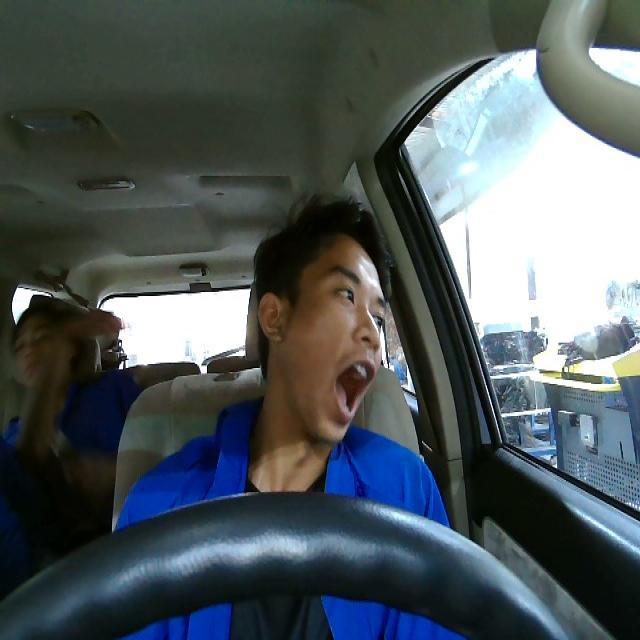yarning: (256, 232, 387, 444)
